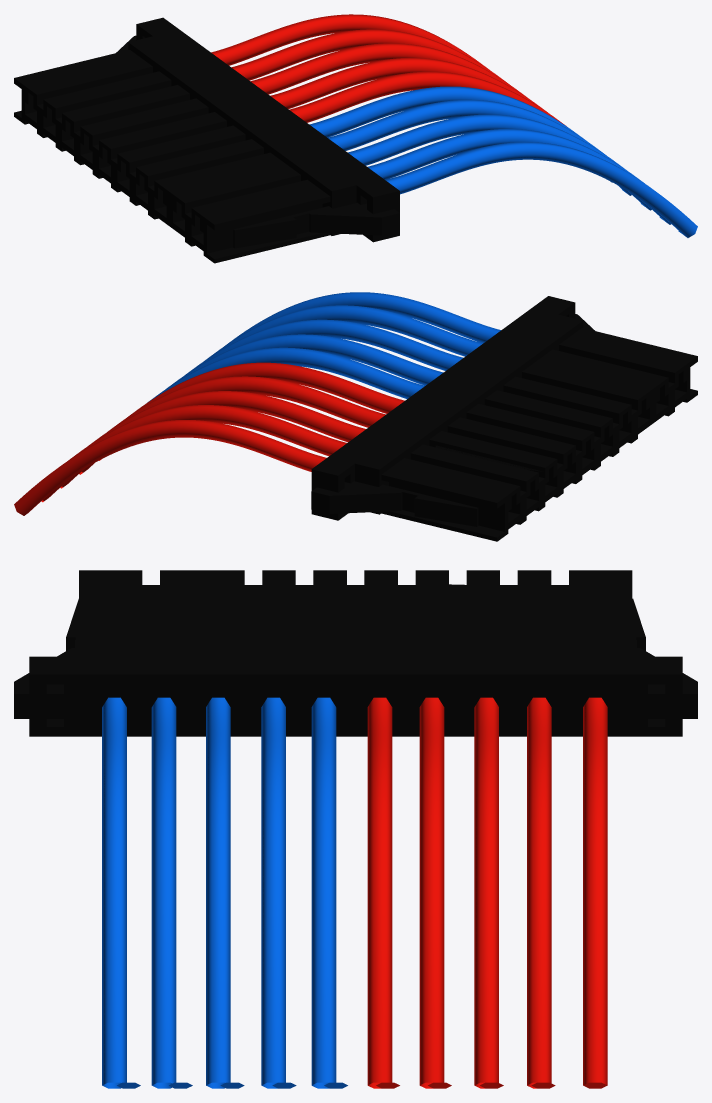
The model's file is LVDS 10 Pin.fbx.
The picture shows the model from 3 angles, top to bottom: view 1: azimuth 30°, elevation 25°; view 2: azimuth 150°, elevation 25°; view 3: azimuth 270°, elevation 25°; orthographic projection. The views are drawn at different scales.
Visible parts, largest first — view 1: Cube.003, NurbsPath.001, NurbsPath, Cube.001, Cube.002, Cube.004; view 2: Cube.003, NurbsPath, NurbsPath.001, Cube.001, Cube.002, Cube.004; view 3: Cube.001, NurbsPath.001, NurbsPath, Cube.003, Cube.002.
Part boxes in pixels (left/top/right/bottom): Cube.003: left=14, top=50, right=330, bottom=253; NurbsPath.001: left=309, top=86, right=697, bottom=237; NurbsPath: left=211, top=14, right=566, bottom=126; Cube.001: left=128, top=17, right=399, bottom=242; Cube.002: left=116, top=35, right=399, bottom=248; Cube.004: left=14, top=110, right=330, bottom=263; Cube.003: left=381, top=328, right=697, bottom=531; NurbsPath: left=14, top=362, right=404, bottom=515; NurbsPath.001: left=147, top=292, right=500, bottom=402; Cube.001: left=311, top=296, right=583, bottom=520; Cube.002: left=311, top=314, right=594, bottom=526; Cube.004: left=381, top=389, right=697, bottom=541; Cube.001: left=29, top=640, right=682, bottom=736; NurbsPath.001: left=102, top=697, right=347, bottom=1088; NurbsPath: left=367, top=697, right=607, bottom=1088; Cube.003: left=79, top=570, right=632, bottom=639; Cube.002: left=14, top=598, right=697, bottom=718.
Bounding box in the file's own units: 17.64 × 4.97 × 15.33.
3 materials, 1 textured.
